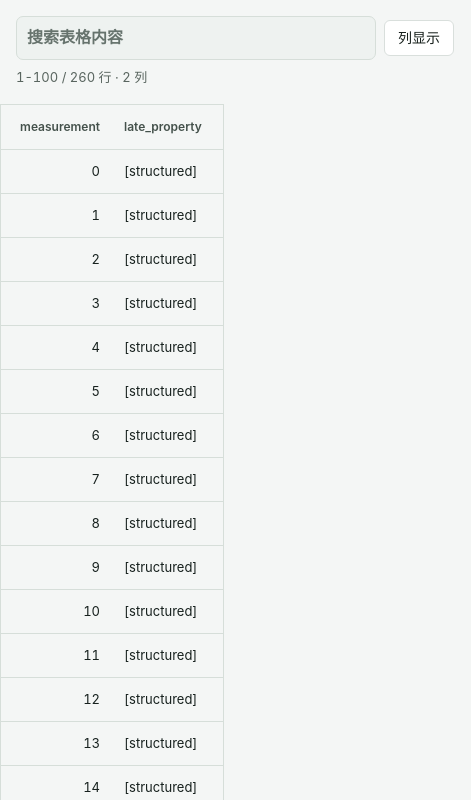
Scenario: includes fields first encountered on a later preview page
Check: the column heading "late_property" is shown, box left=112, top=104, right=224, bottom=150
Type "late measurement" into the search field. click: (196, 38)
box: left=16, top=16, right=376, bottom=60
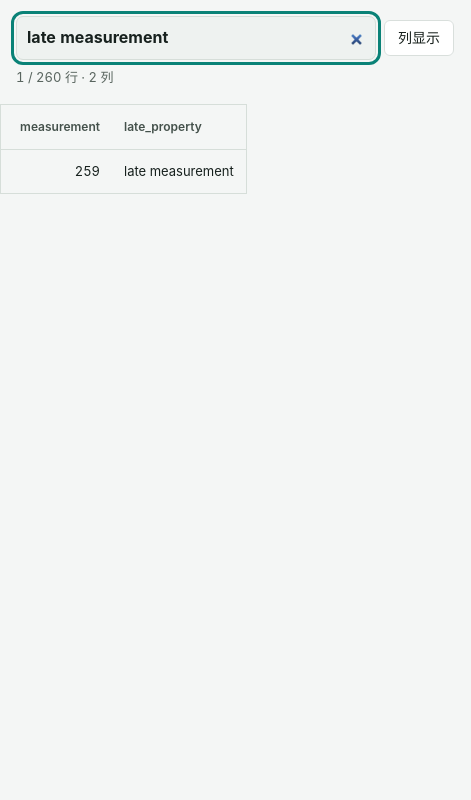
Check: the cell "late measurement" is shown, box left=112, top=150, right=247, bottom=194
Check: the number of rows is 2, box left=0, top=104, right=247, bottom=150; left=0, top=150, right=247, bottom=194
